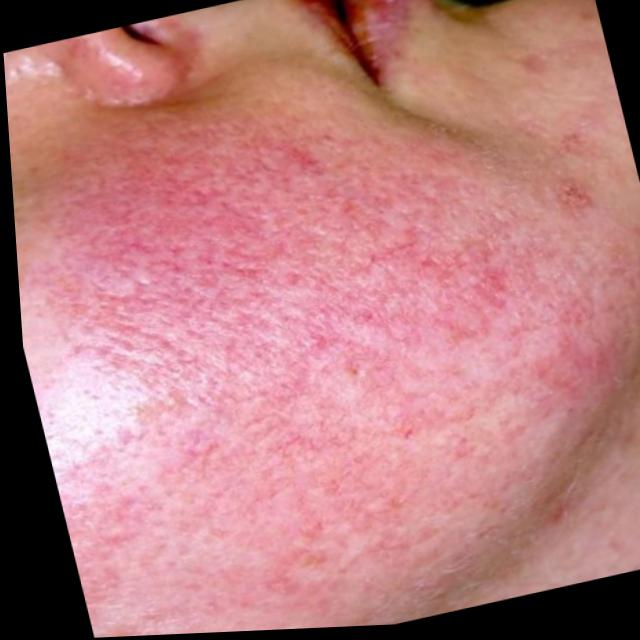Rosacea: (18, 76, 597, 623)
